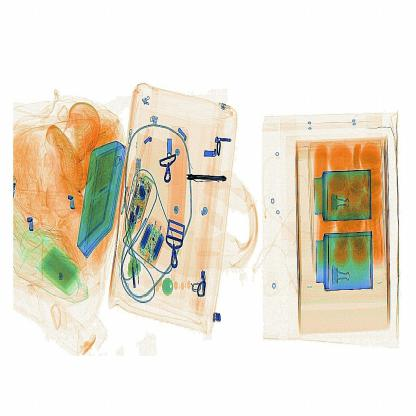knife: (184, 167, 232, 192)
